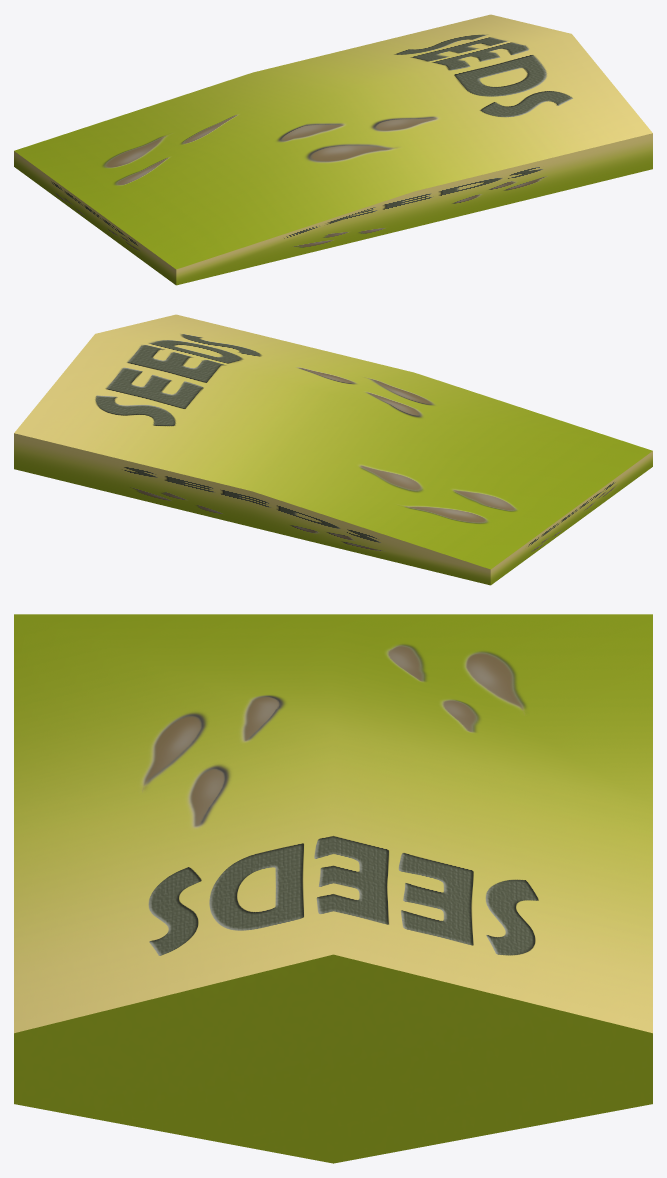
The model's file is siemenet.FBX.
The picture shows the model from 3 angles, top to bottom: view 1: azimuth 30°, elevation 25°; view 2: azimuth 150°, elevation 25°; view 3: azimuth 270°, elevation 25°; orthographic projection. The views are drawn at different scales.
Parts seen in each view (by area): view 1: Box001; view 2: Box001; view 3: Box001.
Boxes of the visible parts, left/top/right/bottom form: Box001: left=14, top=14, right=652, bottom=285; Box001: left=14, top=314, right=652, bottom=585; Box001: left=14, top=614, right=652, bottom=1163.
Bounding box in the file's own units: 3.99 × 0.9072 × 2.35.
1 material, 1 textured.
